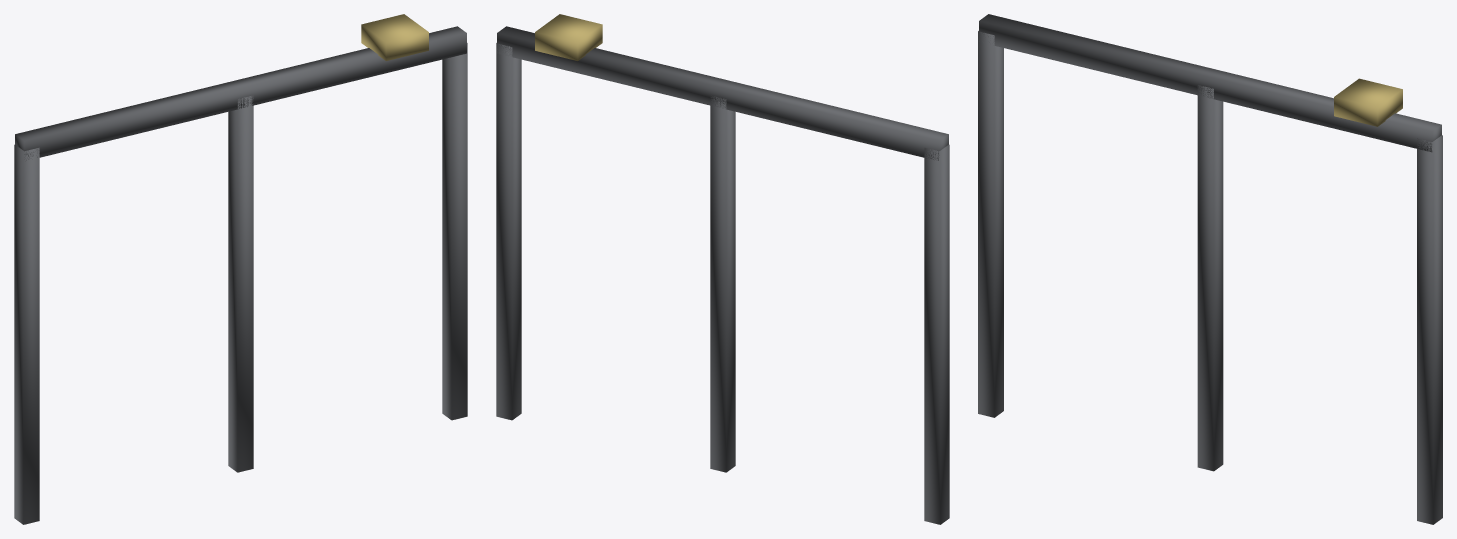
Rendered from industrial_portal_break_l120.glb.
3 views of the same model, side by side, from view 1: azimuth 30°, elevation 25°; view 2: azimuth 150°, elevation 25°; view 3: azimuth 330°, elevation 25° (orthographic). The views are drawn at different scales.
Parts seen in each view (by area): view 1: world; view 2: world; view 3: world.
Boxes of the visible parts, bbox=[...] form: world: bbox=[14, 14, 467, 524]; world: bbox=[496, 14, 949, 524]; world: bbox=[978, 14, 1442, 524].
Bounding box in the file's own units: 1.25 × 1.08 × 0.12.
